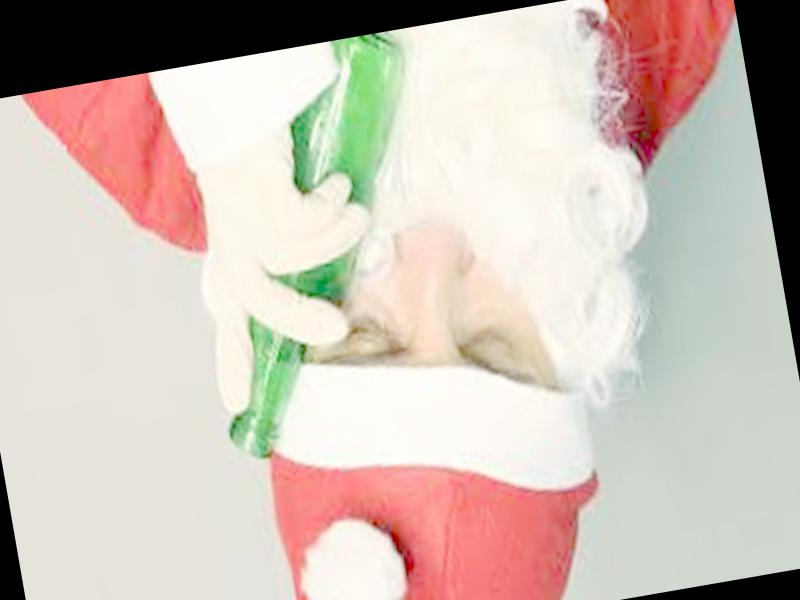Beer: (163, 29, 462, 460)
